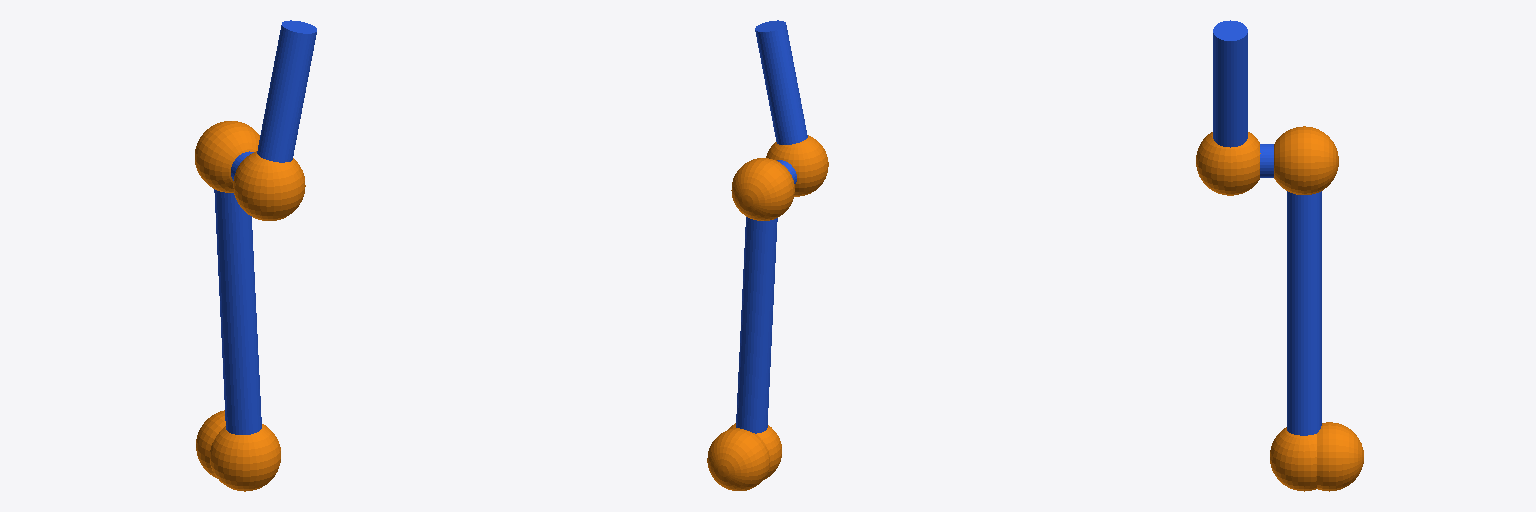
The robot description file, URDF, robot "arm":
<?xml version="1.0"?>
<!-- Generated by tools/make_urdf.py from tools/dh.py. Do not edit by hand. -->
<robot name="arm">
  <material name="blue"><color rgba="0.2 0.4 0.9 1"/></material>
  <material name="orange"><color rgba="0.95 0.55 0.1 1"/></material>
  <material name="mesh0"><color rgba="0.25 0.25 0.28 1"/></material>
  <material name="mesh1"><color rgba="0.75 0.75 0.78 1"/></material>
  <material name="mesh2"><color rgba="0.75 0.75 0.78 1"/></material>
  <link name="base_link">
    <visual>
      <origin xyz="0 0 0" rpy="0 0 0"/>
      <geometry><mesh filename="file://MESH_DIR/link0.stl" scale="0.001 0.001 0.001"/></geometry>
      <material name="mesh0"/>
    </visual>
  </link>
  <link name="link1">
    <visual>
      <origin xyz="0 0 0" rpy="0 0 0"/>
      <geometry><mesh filename="file://MESH_DIR/link1.stl" scale="0.001 0.001 0.001"/></geometry>
      <material name="mesh1"/>
    </visual>
  </link>
  <link name="link2">
    <visual>
      <origin xyz="0.0355 0.004 0" rpy="-1.570796327 0 1.570796327"/>
      <geometry><mesh filename="file://MESH_DIR/link2.stl" scale="0.001 0.001 0.001"/></geometry>
      <material name="mesh2"/>
    </visual>
  </link>
  <link name="link3">
    <visual><geometry><sphere radius="0.012"/></geometry><material name="orange"/></visual>
    <visual>
      <origin xyz="0 0 -0.00435" rpy="3.141592654 0 0"/>
      <geometry><cylinder radius="0.006" length="0.0087"/></geometry>
      <material name="blue"/>
    </visual>
  </link>
  <link name="link4">
    <visual><geometry><sphere radius="0.012"/></geometry><material name="orange"/></visual>
    <visual>
      <origin xyz="-0.00275 0 0.0551" rpy="0 -0.049867878 0"/>
      <geometry><cylinder radius="0.006" length="0.110337165"/></geometry>
      <material name="blue"/>
    </visual>
  </link>
  <link name="link5">
    <visual><geometry><sphere radius="0.012"/></geometry><material name="orange"/></visual>
    <visual>
      <origin xyz="0 0 0.01275" rpy="0 0 0"/>
      <geometry><cylinder radius="0.006" length="0.0255"/></geometry>
      <material name="blue"/>
    </visual>
  </link>
  <link name="link6">
    <visual><geometry><sphere radius="0.012"/></geometry><material name="orange"/></visual>
    <visual>
      <origin xyz="0.00575 0 0.0275" rpy="0 0.206121342 0"/>
      <geometry><cylinder radius="0.006" length="0.056189412"/></geometry>
      <material name="blue"/>
    </visual>
  </link>
  <link name="tool"/>
  <joint name="joint1" type="revolute">
    <parent link="base_link"/>
    <child link="link1"/>
    <origin xyz="0 0 0" rpy="0 0 0"/>
    <axis xyz="0 0 1"/>
    <limit lower="-3.14159" upper="3.14159" effort="1.0" velocity="1.0"/>
  </joint>
  <joint name="joint2" type="revolute">
    <parent link="link1"/>
    <child link="link2"/>
    <origin xyz="-0.004 0 0.0355" rpy="1.570796327 1.570796327 0"/>
    <axis xyz="0 0 1"/>
    <limit lower="-3.14159" upper="3.14159" effort="1.0" velocity="1.0"/>
  </joint>
  <joint name="joint3" type="revolute">
    <parent link="link2"/>
    <child link="link3"/>
    <origin xyz="-0.269 0 -0.0087" rpy="-3.141592654 0 1.570796327"/>
    <axis xyz="0 0 1"/>
    <limit lower="-3.14159" upper="3.14159" effort="1.0" velocity="1.0"/>
  </joint>
  <joint name="joint4" type="revolute">
    <parent link="link3"/>
    <child link="link4"/>
    <origin xyz="0 0 -0.0087" rpy="1.570796327 0 0"/>
    <axis xyz="0 0 1"/>
    <limit lower="-3.14159" upper="3.14159" effort="1.0" velocity="1.0"/>
  </joint>
  <joint name="joint5" type="revolute">
    <parent link="link4"/>
    <child link="link5"/>
    <origin xyz="-0.0055 0 0.1102" rpy="1.570796327 0 0"/>
    <axis xyz="0 0 1"/>
    <limit lower="-3.14159" upper="3.14159" effort="1.0" velocity="1.0"/>
  </joint>
  <joint name="joint6" type="revolute">
    <parent link="link5"/>
    <child link="link6"/>
    <origin xyz="0 0 0.0255" rpy="-1.570796327 0 0"/>
    <axis xyz="0 0 1"/>
    <limit lower="-3.14159" upper="3.14159" effort="1.0" velocity="1.0"/>
  </joint>
  <joint name="tool_joint" type="fixed">
    <parent link="link6"/>
    <child link="tool"/>
    <origin xyz="0.0115 0 0.055" rpy="0 0 0"/>
  </joint>
</robot>

--- Render facts (derived) ---
3 views of the same robot in one strip: view 1: azimuth 30°, elevation 25°; view 2: azimuth 150°, elevation 25°; view 3: azimuth 270°, elevation 25° (orthographic).
Model arm with 8 links and 7 joints (6 revolute, 1 fixed), rooted at base_link, posed every joint at zero.
Links seen in each view (by area): view 1: link4, link6, link5, link3; view 2: link4, link6, link5, link3; view 3: link4, link6, link5, link3.
Link boxes in pixels (x1=…): link4: x1=209, y1=189, x2=280, y2=491; link6: x1=233, y1=20, x2=316, y2=220; link5: x1=195, y1=121, x2=259, y2=192; link3: x1=196, y1=410, x2=225, y2=478; link4: x1=728, y1=217, x2=781, y2=479; link6: x1=755, y1=20, x2=828, y2=196; link5: x1=731, y1=158, x2=796, y2=220; link3: x1=707, y1=428, x2=769, y2=490; link4: x1=1270, y1=191, x2=1321, y2=491; link6: x1=1196, y1=20, x2=1260, y2=195; link5: x1=1260, y1=126, x2=1338, y2=194; link3: x1=1317, y1=422, x2=1363, y2=491.
Size in the robot's own frame: 0.0295 by 0.0582 by 0.1784 metres.
Geometry: only primitive shapes (box / cylinder / sphere) drawn; not drawn: 3 mesh visuals (reference in a form the renderer does not follow).
